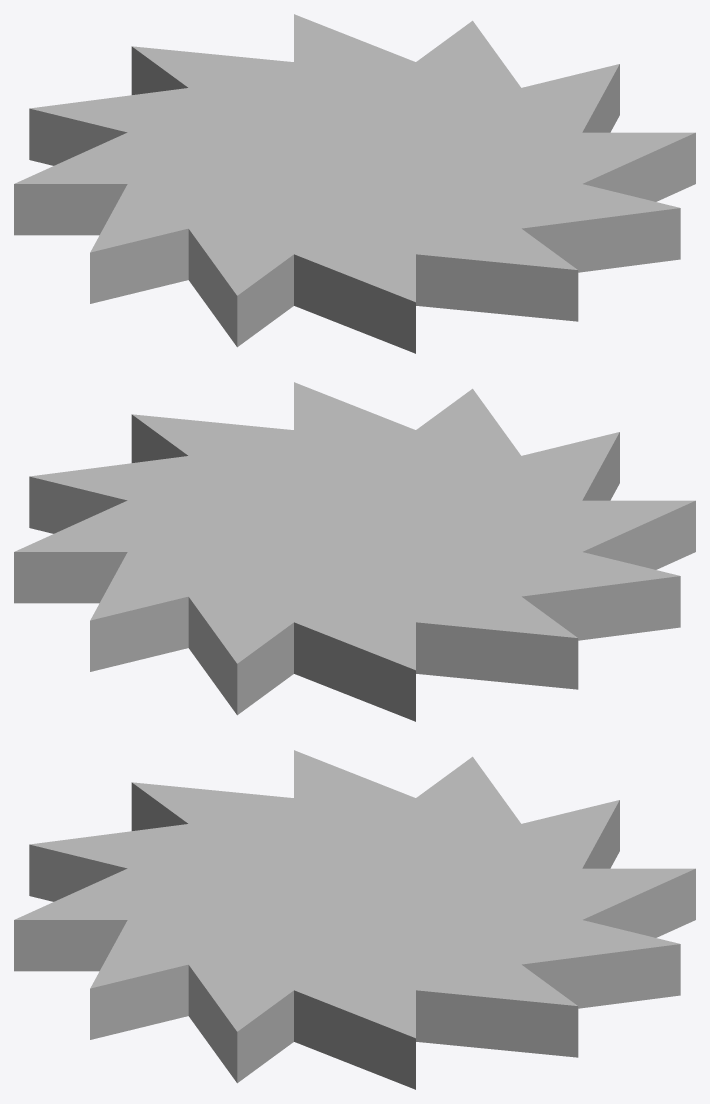
File: Sawblade.obj
3 renders of one model, top to bottom at view 1: azimuth 30°, elevation 25°; view 2: azimuth 150°, elevation 25°; view 3: azimuth 270°, elevation 25°, orthographic.
Parts seen in each view (by area): view 1: cylinder; view 2: cylinder; view 3: cylinder.
Boxes of the visible parts, box(x1,y1,x2,y2) form: cylinder: box(14, 14, 695, 353); cylinder: box(14, 382, 695, 721); cylinder: box(14, 750, 695, 1089).
Size of the model in its own units: 1.5 by 0.125 by 1.5.
Materials: 1 (1 with a texture image).
